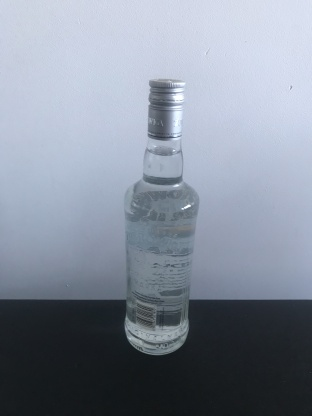nakretka: (146, 77, 186, 142)
